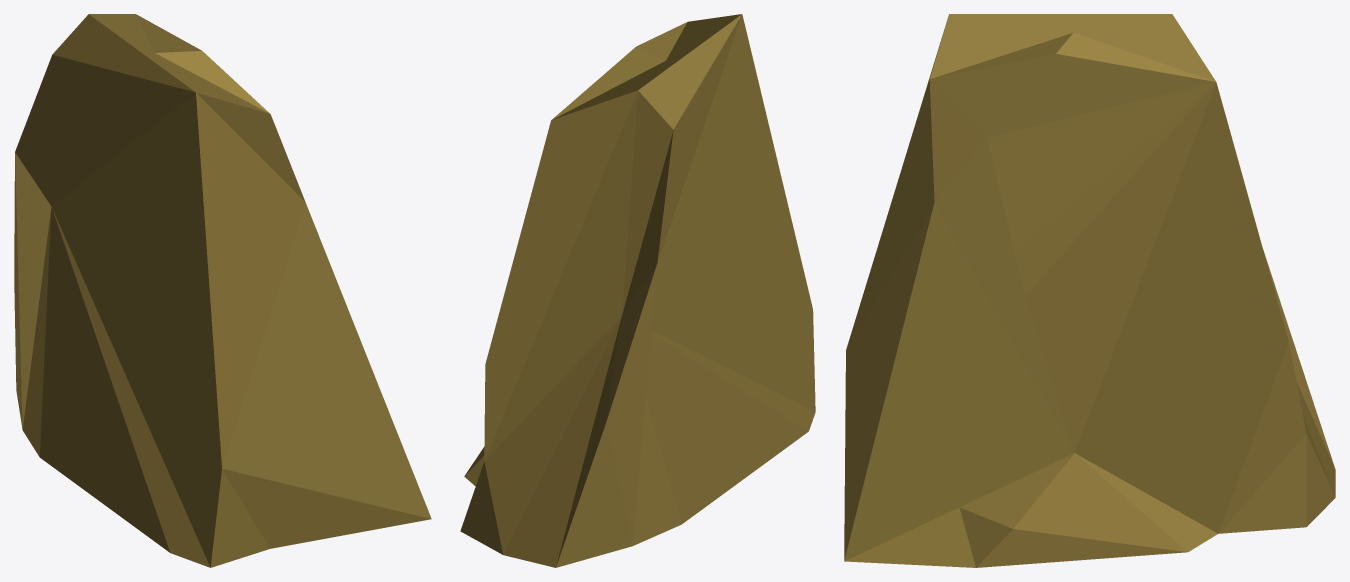
The model's file is Rock6.fbx.
3 views of the same model, side by side, from view 1: azimuth 30°, elevation 25°; view 2: azimuth 150°, elevation 25°; view 3: azimuth 270°, elevation 25° (orthographic). The views are drawn at different scales.
Parts seen in each view (by area): view 1: Group1; view 2: Group1; view 3: Group1.
Boxes of the visible parts, x1,y1,x2,y2 form: Group1: (14, 14, 431, 567); Group1: (460, 14, 815, 567); Group1: (844, 14, 1335, 567).
Bounding box in the file's own units: 1724 × 2880 × 2832.
